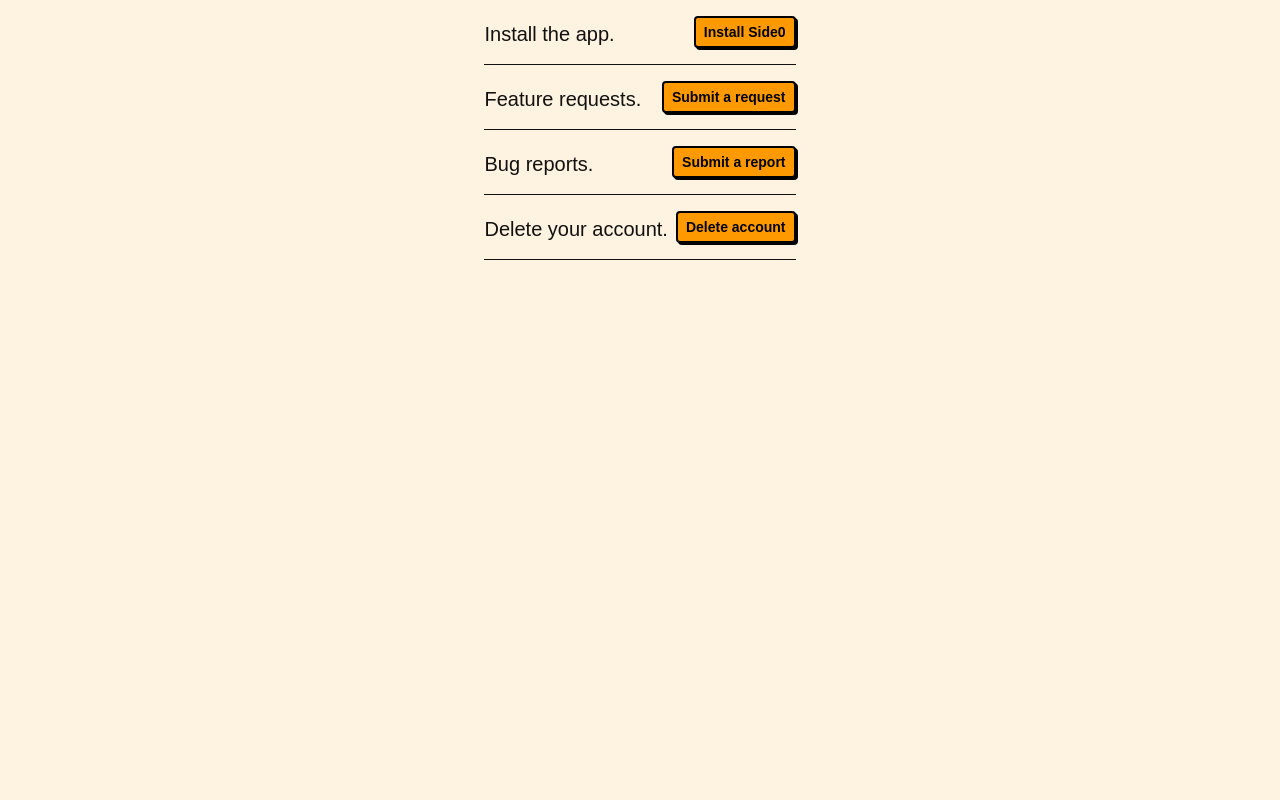
Scenario: AccountActions › opens the delete account modal
Click the button "Delete account" at coordinates (736, 227), box [676,211,796,243]
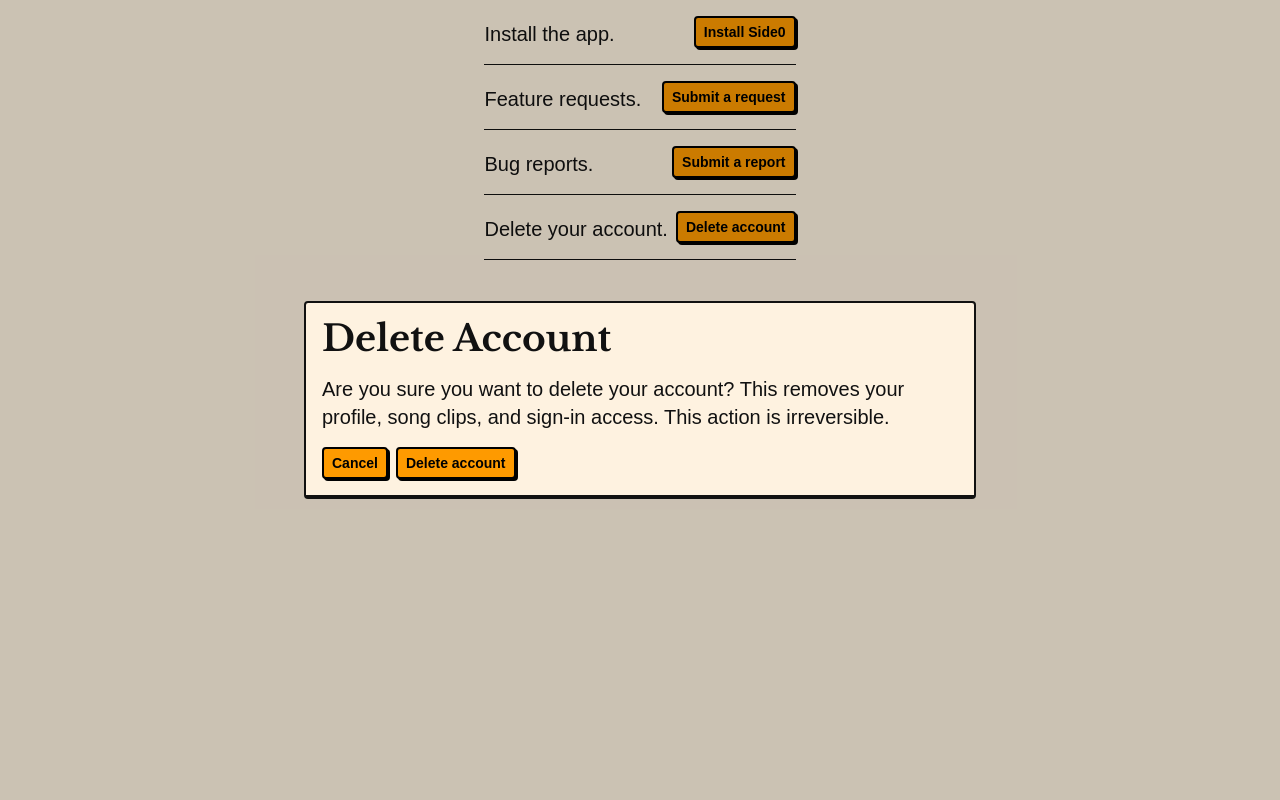
Expected: the dialog is shown, [304,301,976,499]
Expected: the heading "Delete Account" is shown, [322,316,611,361]
